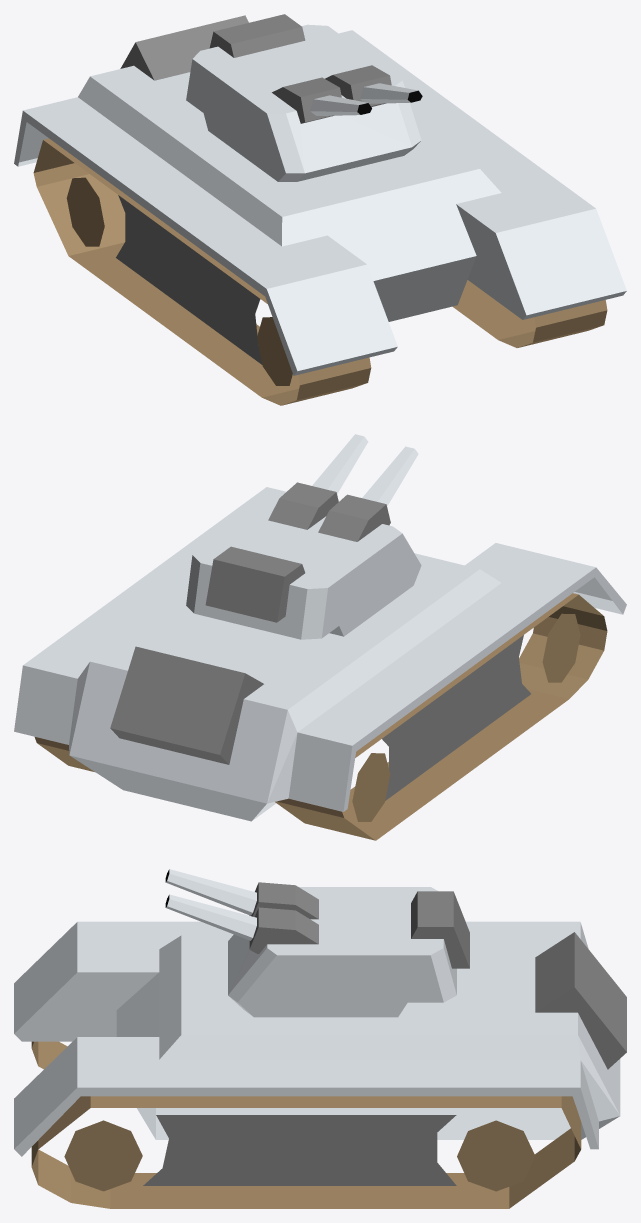
Rendered from Tank.fbx.
The picture shows the model from 3 angles, top to bottom: view 1: azimuth 30°, elevation 25°; view 2: azimuth 150°, elevation 25°; view 3: azimuth 270°, elevation 25°; orthographic projection. The views are drawn at different scales.
Parts seen in each view (by area): view 1: Shape_IndexedFaceSet.005; view 2: Shape_IndexedFaceSet.005; view 3: Shape_IndexedFaceSet.005.
Boxes of the visible parts, x1,y1,x2,y2 form: Shape_IndexedFaceSet.005: (14, 14, 626, 405); Shape_IndexedFaceSet.005: (14, 434, 626, 840); Shape_IndexedFaceSet.005: (14, 869, 626, 1208).
Bounding box in the file's own units: 0.6524 × 0.4556 × 1.02.
